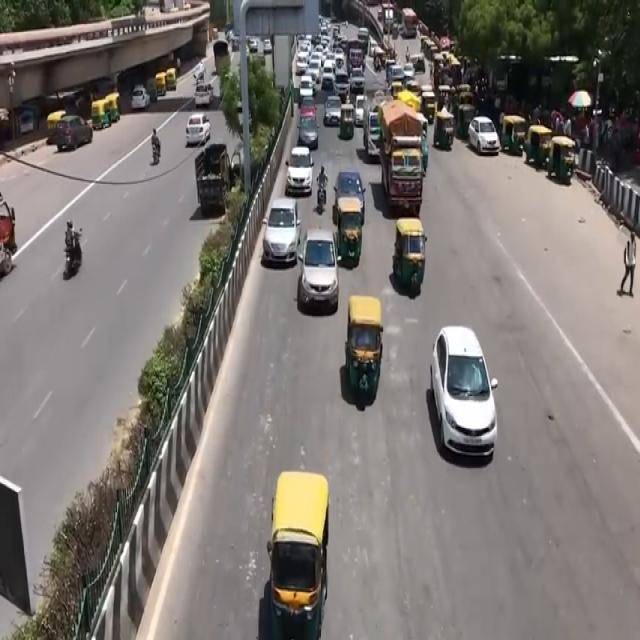MOTORCYCLE: (64, 228, 84, 278)
TRUCK: (379, 114, 423, 217)
